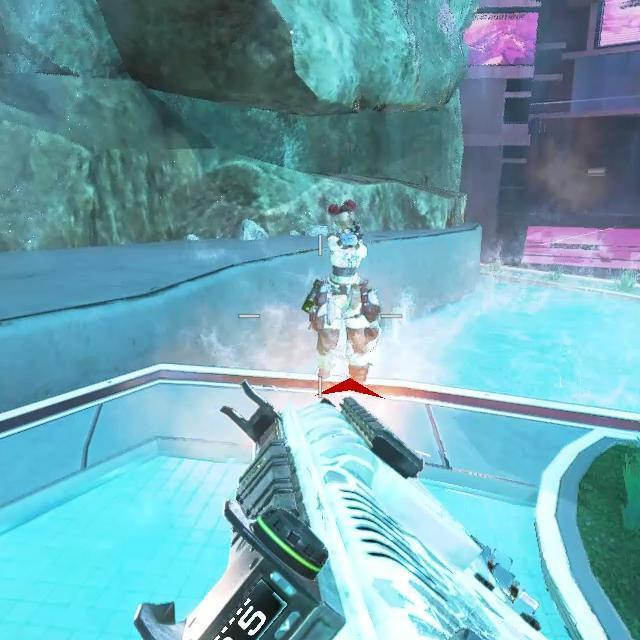avatar: (301, 196, 383, 380)
